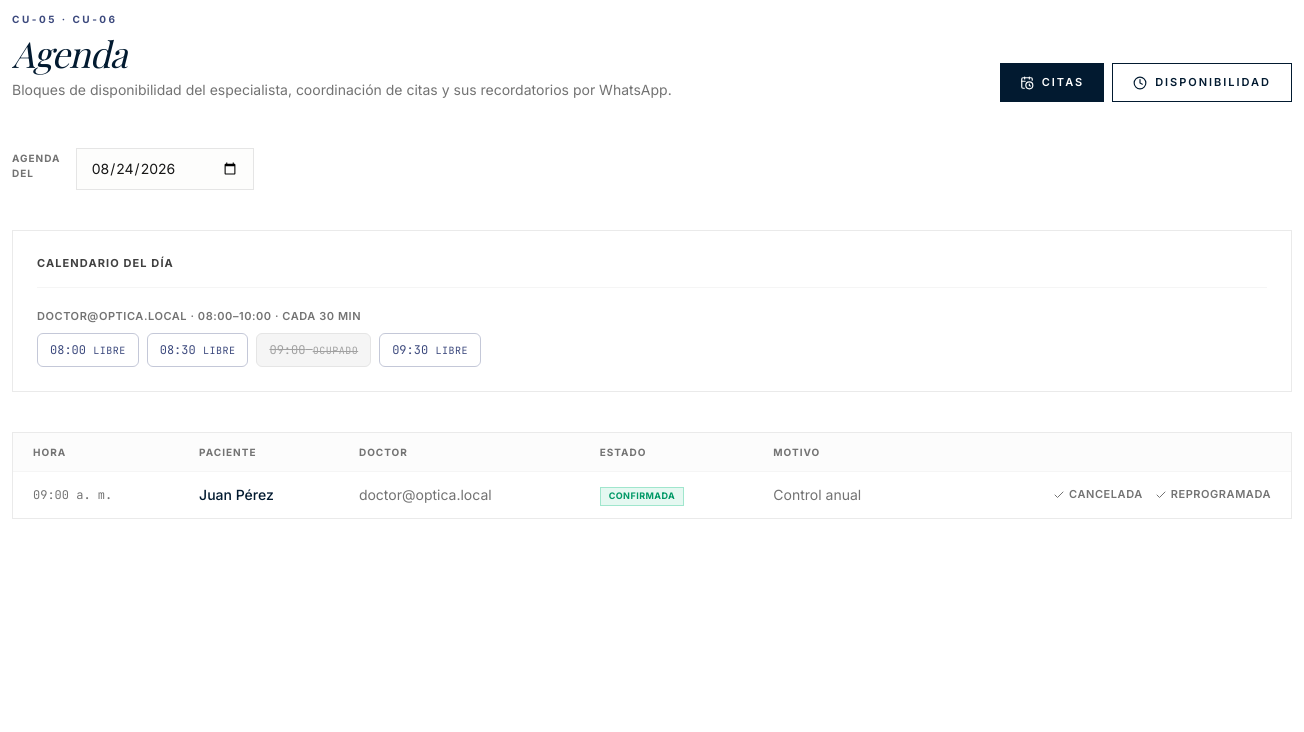
AgendaPage › 2. Alta de cita — CU-05 pasos 3, 4 y 5 › pide paciente, teléfono y motivo, como el paso 4
The image size is (1304, 732).
Click the button "08:00 Libre" at (88, 350), box [37,333,139,367]
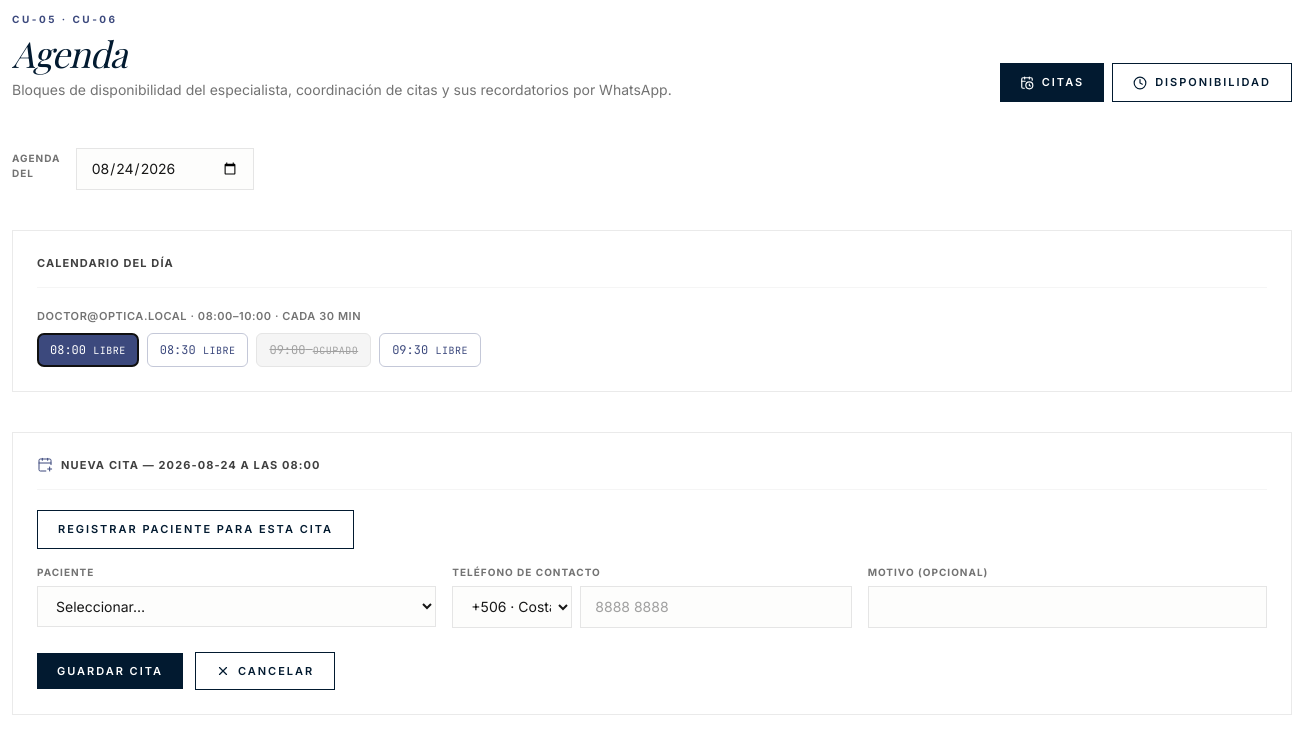
expect the dropdown labelled "Paciente" is shown: met, box [37,586,436,627]
expect the field labelled "Teléfono de contacto" is shown: met, box [580,586,852,628]
expect the dropdown named "Código de país" is shown: met, box [452,586,572,628]
